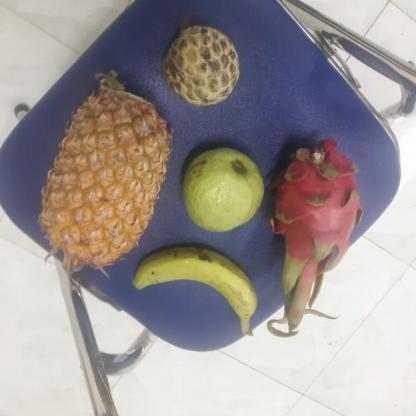annona: (155, 22, 240, 108)
banana: (129, 246, 254, 325)
guava: (178, 148, 265, 232)
pineapple: (35, 77, 171, 267)
pitaya: (265, 148, 360, 289)
